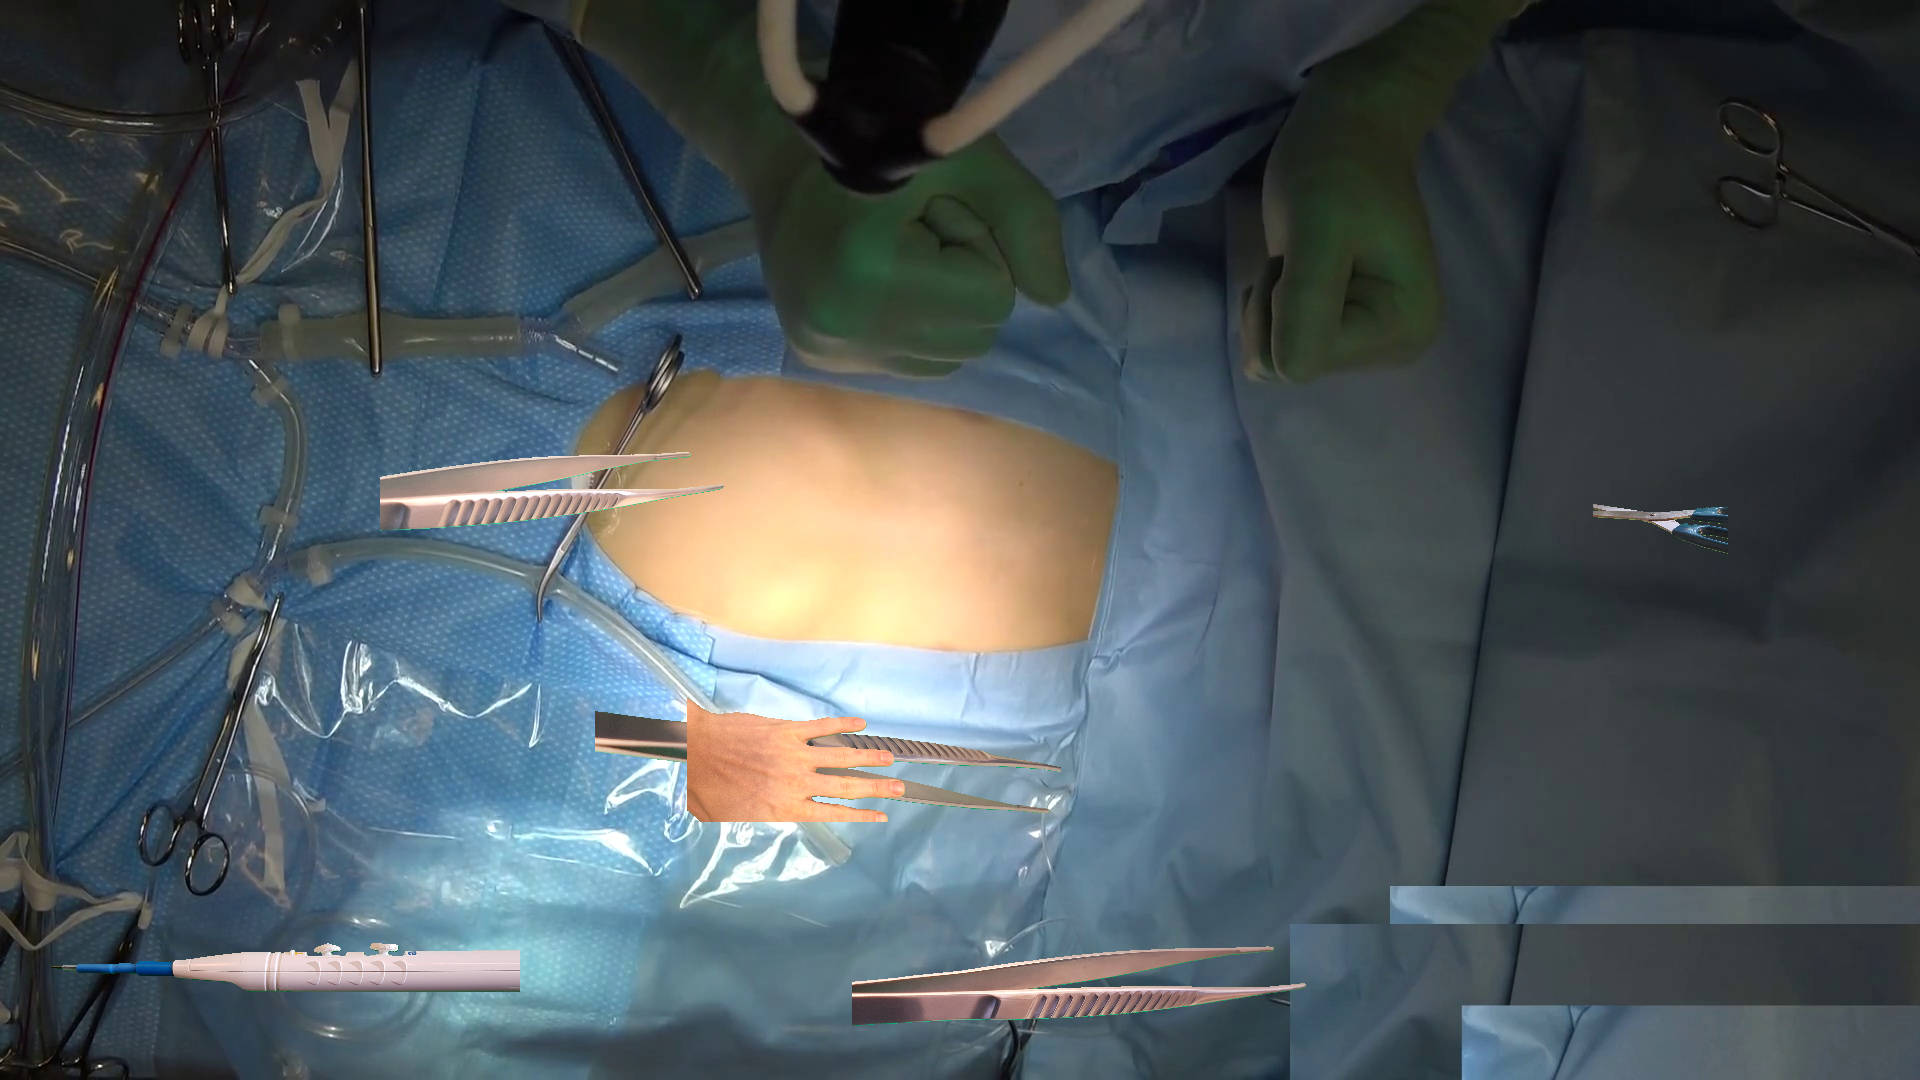diathermy: (51, 943, 520, 992)
forceps: (595, 711, 1060, 812), (852, 945, 1305, 1025), (380, 452, 723, 530)
scissors: (1593, 504, 1727, 553)
